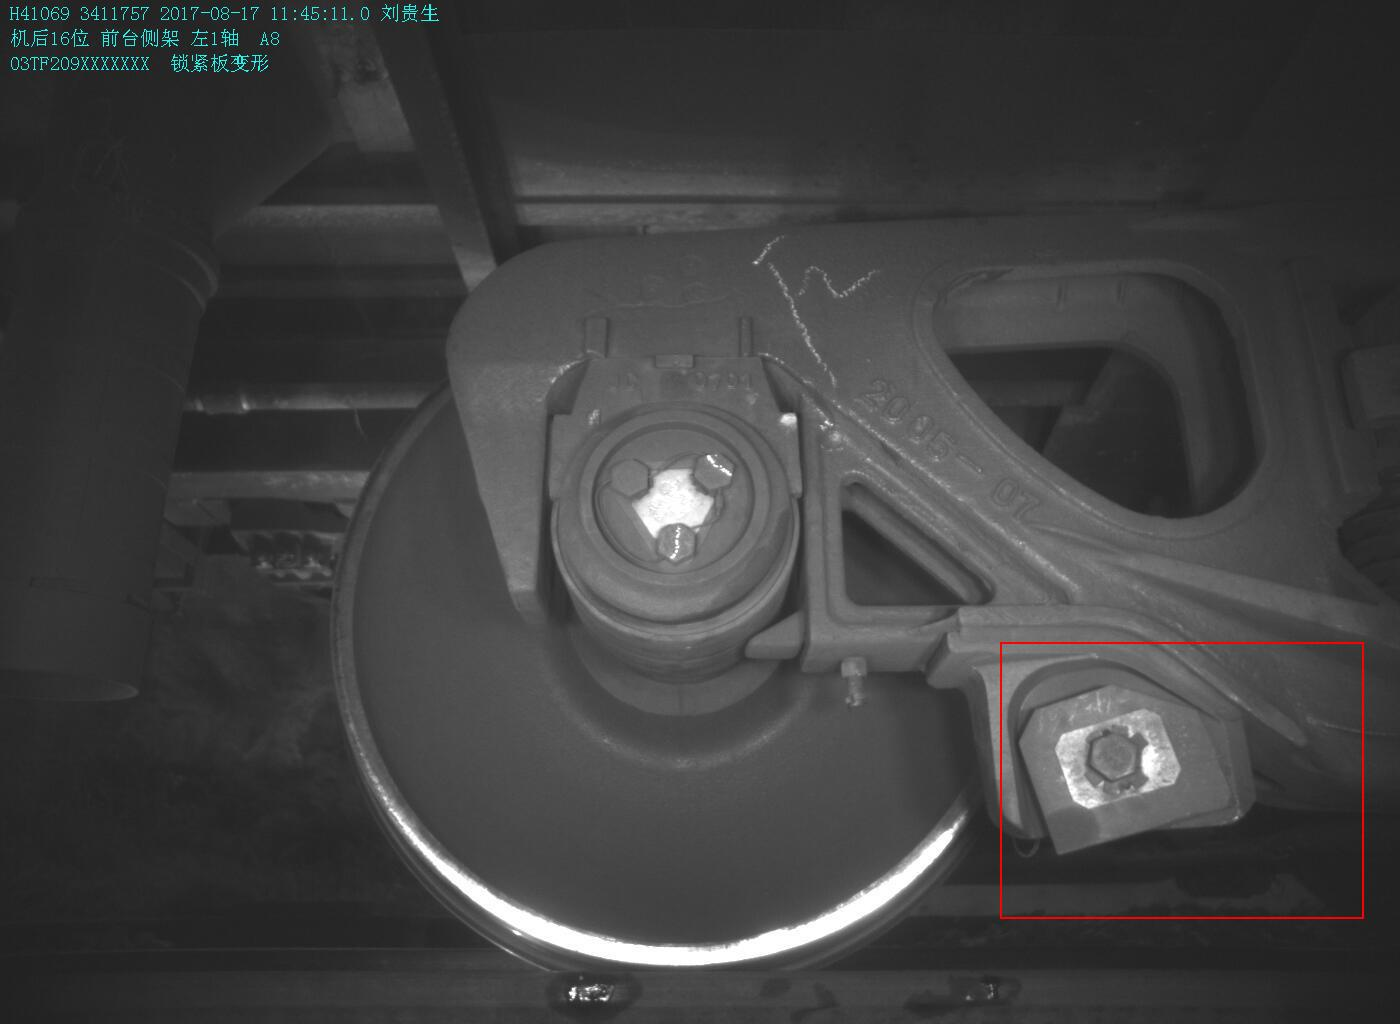Locking plate: (1003, 658, 1240, 857)
